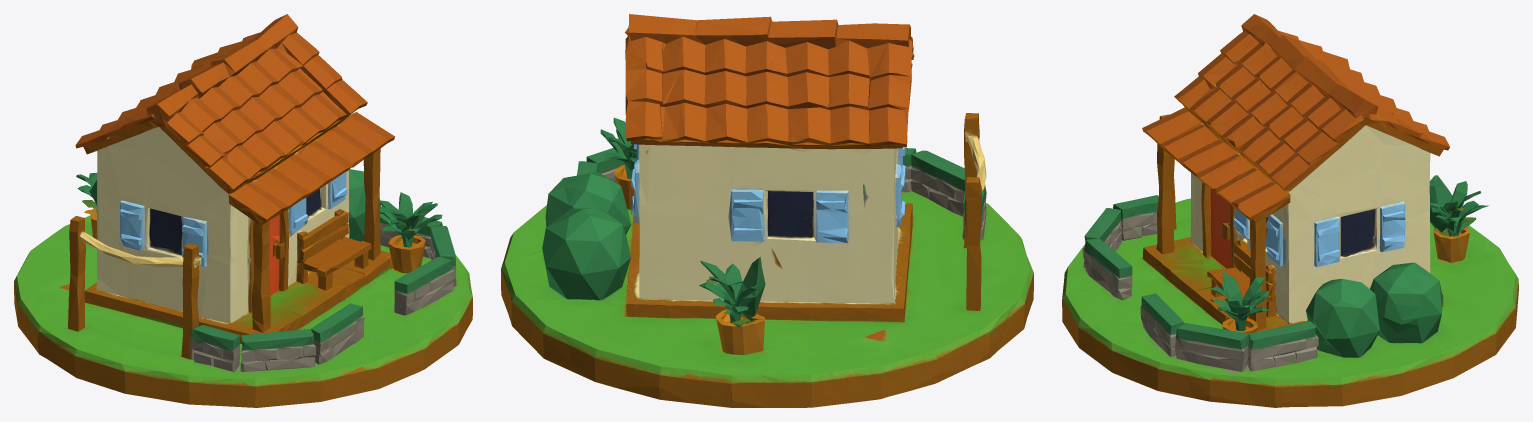
File: rio-casa.glb
3 views of the same model, side by side, from view 1: azimuth 30°, elevation 25°; view 2: azimuth 150°, elevation 25°; view 3: azimuth 270°, elevation 25° (orthographic). The views are drawn at different scales.
Parts seen in each view (by area): view 1: tripo_node_476c2e2b-6831-42a5-8daa-8b4cd5da40de; view 2: tripo_node_476c2e2b-6831-42a5-8daa-8b4cd5da40de; view 3: tripo_node_476c2e2b-6831-42a5-8daa-8b4cd5da40de.
Part boxes in pixels (x1=…): tripo_node_476c2e2b-6831-42a5-8daa-8b4cd5da40de: x1=14, y1=14, x2=472, y2=407; tripo_node_476c2e2b-6831-42a5-8daa-8b4cd5da40de: x1=501, y1=14, x2=1033, y2=407; tripo_node_476c2e2b-6831-42a5-8daa-8b4cd5da40de: x1=1062, y1=14, x2=1518, y2=407.
Bounding box in the file's own units: 0.9993 × 0.6045 × 0.996.
Materials: 1 (1 with a texture image).
